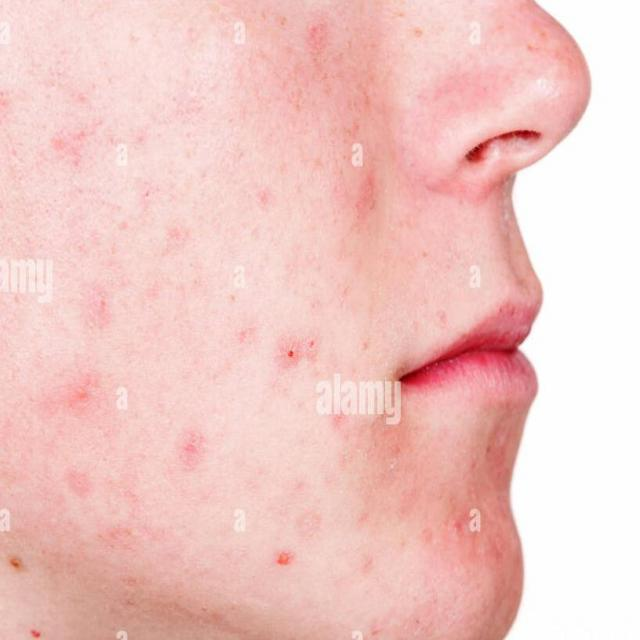blackheads: (48, 360, 118, 417), (82, 280, 110, 335), (352, 172, 378, 222), (179, 428, 203, 475), (275, 335, 301, 372), (275, 543, 296, 569), (9, 550, 26, 573)
